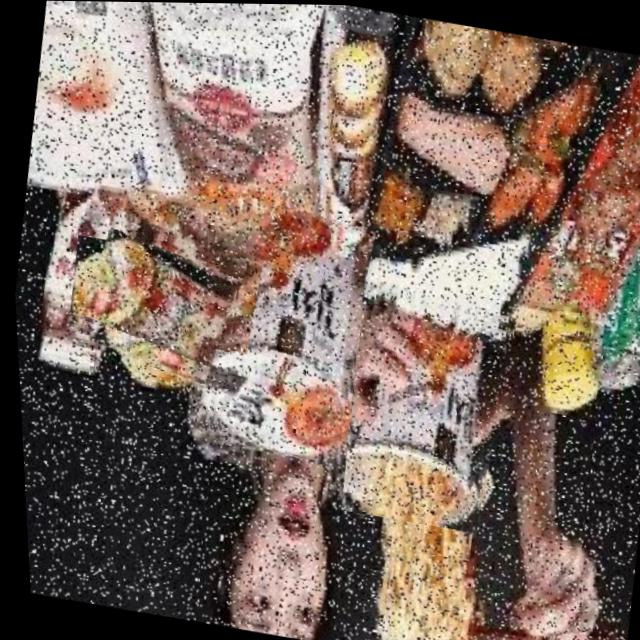Miscellaneous: (185, 194, 379, 465), (326, 282, 518, 534), (70, 212, 246, 382)
